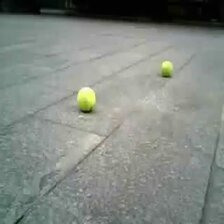tennis: (77, 87, 95, 108), (161, 61, 172, 76)
